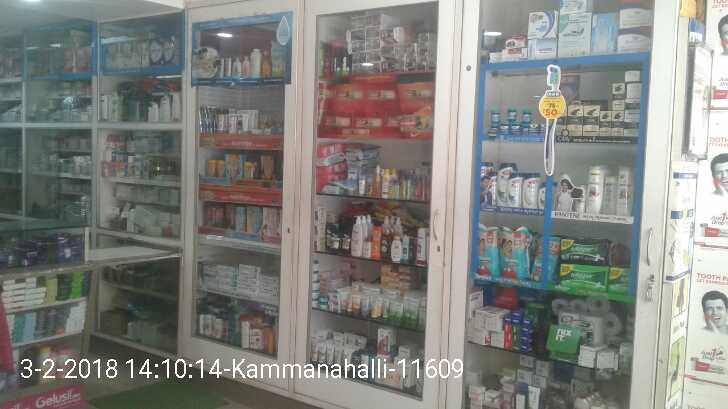beauty: (588, 164, 605, 214), (617, 167, 634, 216), (523, 172, 539, 212), (506, 172, 522, 207), (605, 175, 618, 216), (583, 104, 600, 135), (568, 104, 582, 135), (625, 110, 639, 136), (612, 109, 624, 136), (600, 110, 612, 135), (611, 83, 626, 99), (624, 98, 641, 112), (627, 84, 642, 99), (625, 70, 641, 82), (611, 100, 624, 110)
pharmacy: (560, 262, 609, 292), (503, 225, 528, 279), (561, 238, 611, 264), (477, 225, 501, 276), (611, 268, 628, 294), (522, 107, 533, 125), (490, 108, 501, 124), (507, 106, 518, 121)
